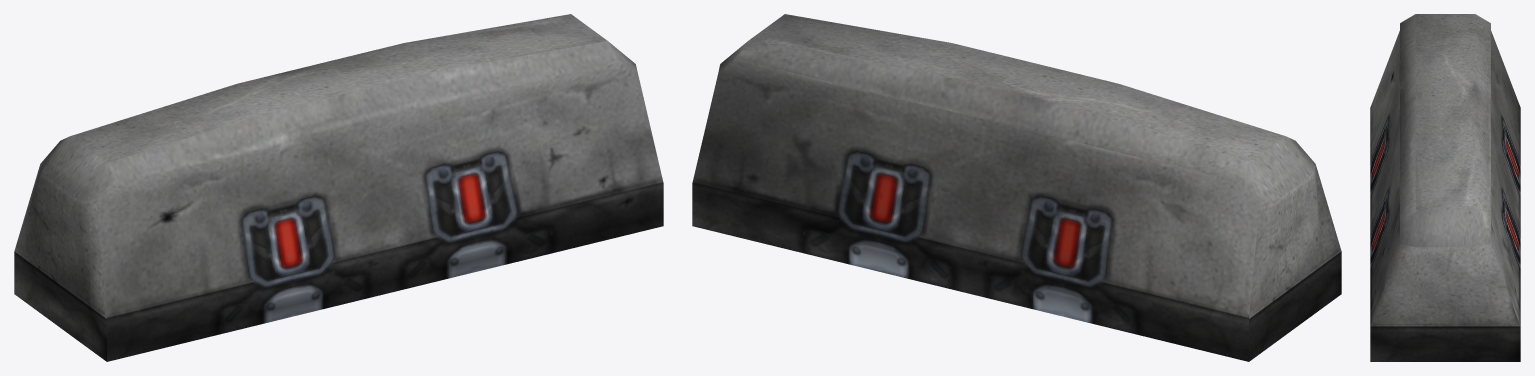
The model's file is doodad_concretebarrier.fbx.
3 views of the same model, side by side, from view 1: azimuth 30°, elevation 25°; view 2: azimuth 150°, elevation 25°; view 3: azimuth 270°, elevation 25° (orthographic). The views are drawn at different scales.
Visible parts, largest first — view 1: pCube1; view 2: pCube1; view 3: pCube1.
Boxes of the visible parts, bbox=[...] form: pCube1: bbox=[14, 14, 663, 361]; pCube1: bbox=[692, 14, 1341, 361]; pCube1: bbox=[1370, 14, 1520, 361].
Bounding box in the file's own units: 0.8836 × 0.2779 × 0.2548.
Materials: 1 (1 with a texture image).
